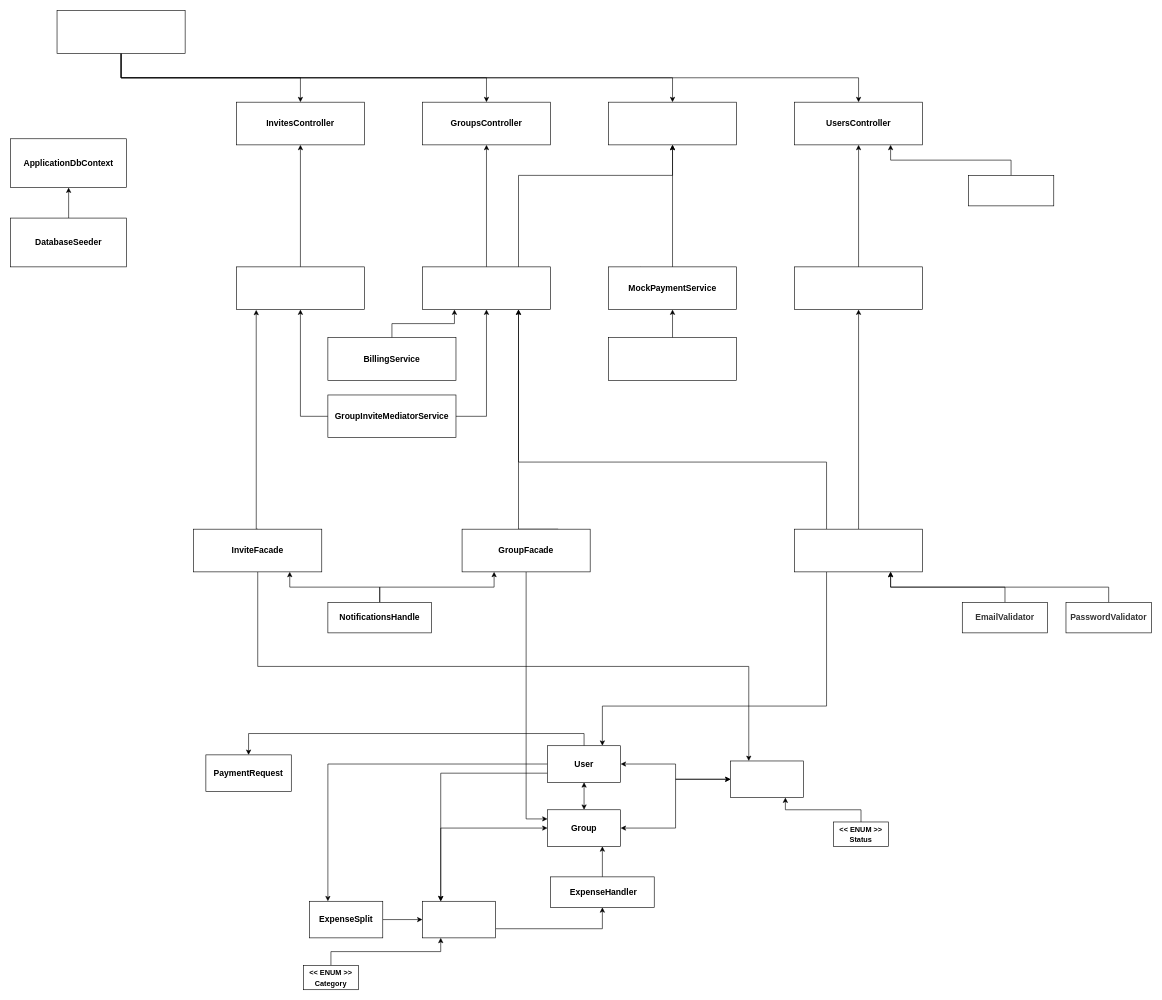
The diagram is 1162 pixels wide and 1000 high, and some of its shapes have lost their labels. Each missing label, with the centre of its shape:
Dto's Objects: the point at 120,31
Expense: the point at 459,919
GroupService: the point at 486,288
Invite: the point at 767,779
InviteService: the point at 300,288
IPaymentService: the point at 672,358
Payment Controller: the point at 672,123
RegisterVerify: the point at 1011,190
UserFacade: the point at 858,550
UserService: the point at 858,288
